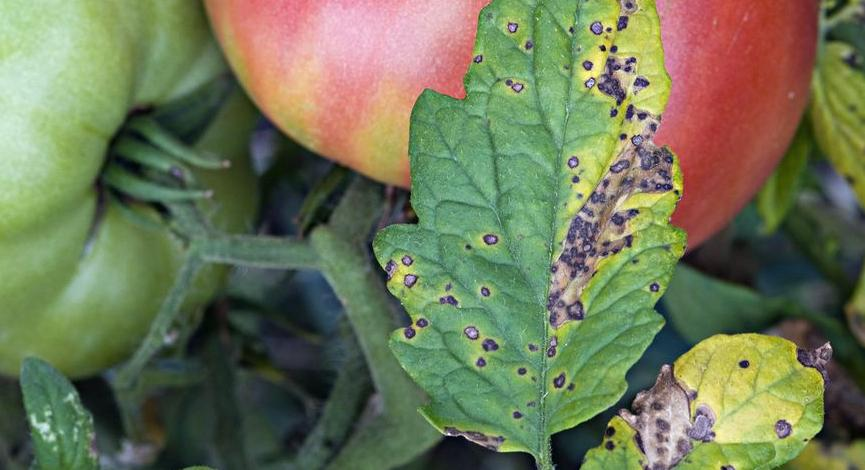Tomato Septoria leaf spot: (400, 0, 696, 460), (580, 331, 838, 470)
